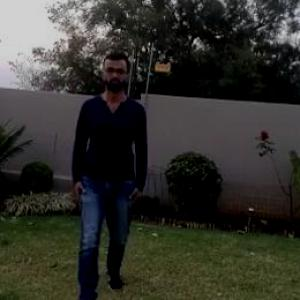follow: (74, 66, 136, 295)
